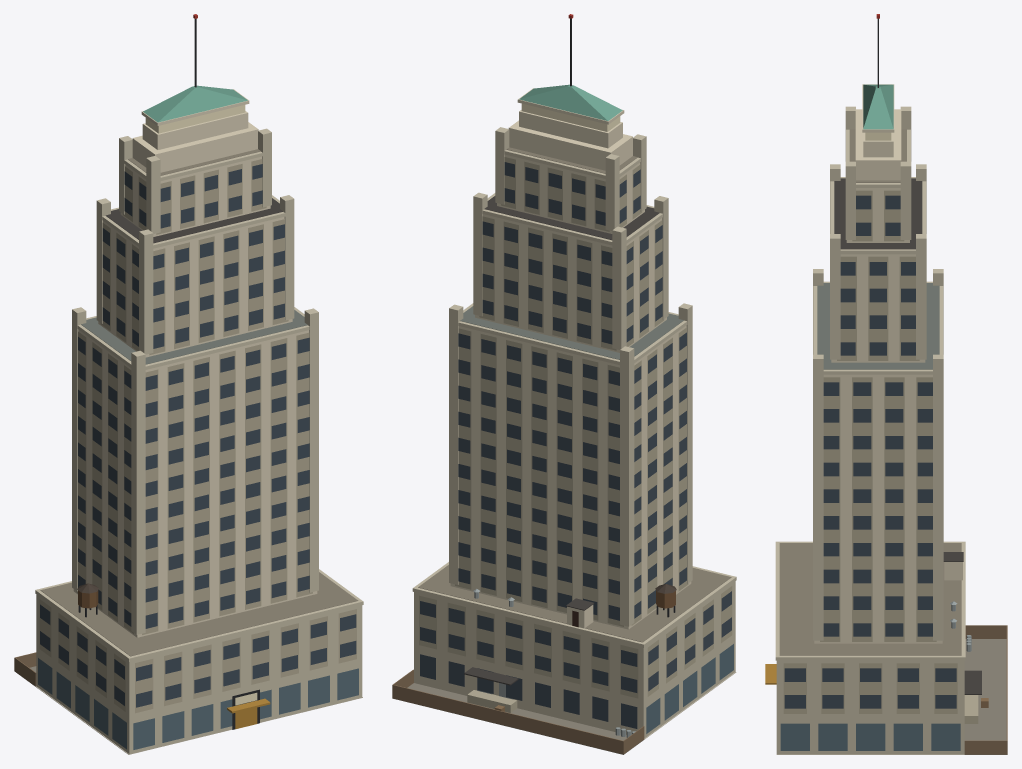
The model's file is glasstower_wa.glb.
3 views of the same model, side by side, from view 1: azimuth 30°, elevation 25°; view 2: azimuth 150°, elevation 25°; view 3: azimuth 270°, elevation 25° (orthographic). The views are drawn at different scales.
Visible parts, largest first — view 1: glasstower_wa; view 2: glasstower_wa; view 3: glasstower_wa.
Boxes of the visible parts, x1,y1,x2,y2 form: glasstower_wa: (14,14,363,754); glasstower_wa: (392,14,736,754); glasstower_wa: (765,14,1007,754).
Bounding box in the file's own units: 30 × 82.49 × 26.53.
